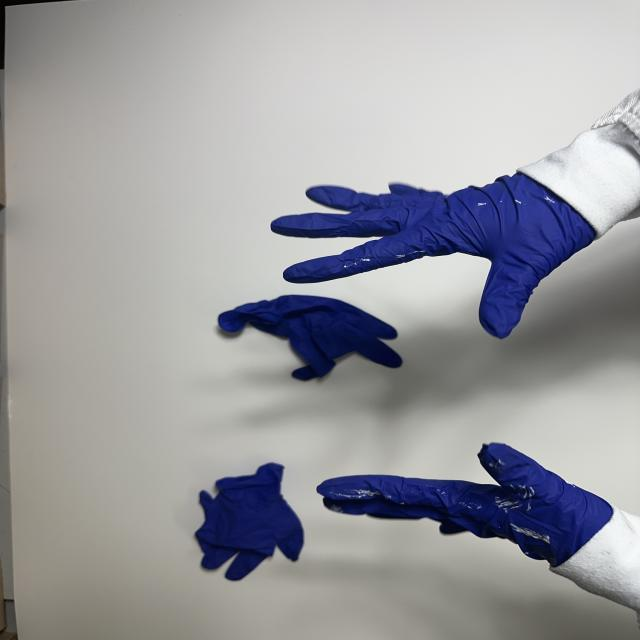gloves_contaminated: (271, 174, 595, 338), (318, 443, 612, 568)
